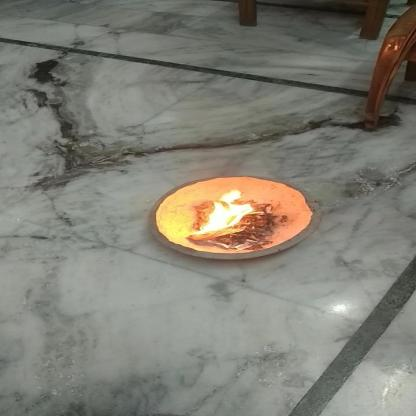fire: (190, 187, 264, 237)
